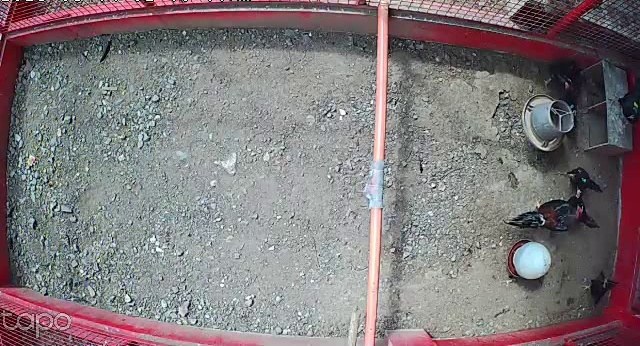Chicken: (608, 71, 640, 132), (550, 80, 582, 141), (541, 59, 590, 94), (575, 272, 622, 306), (564, 189, 602, 230), (564, 166, 603, 194)
Rooster: (503, 199, 585, 236)
Saddle_Color_YellowGreen: (632, 101, 639, 112)
